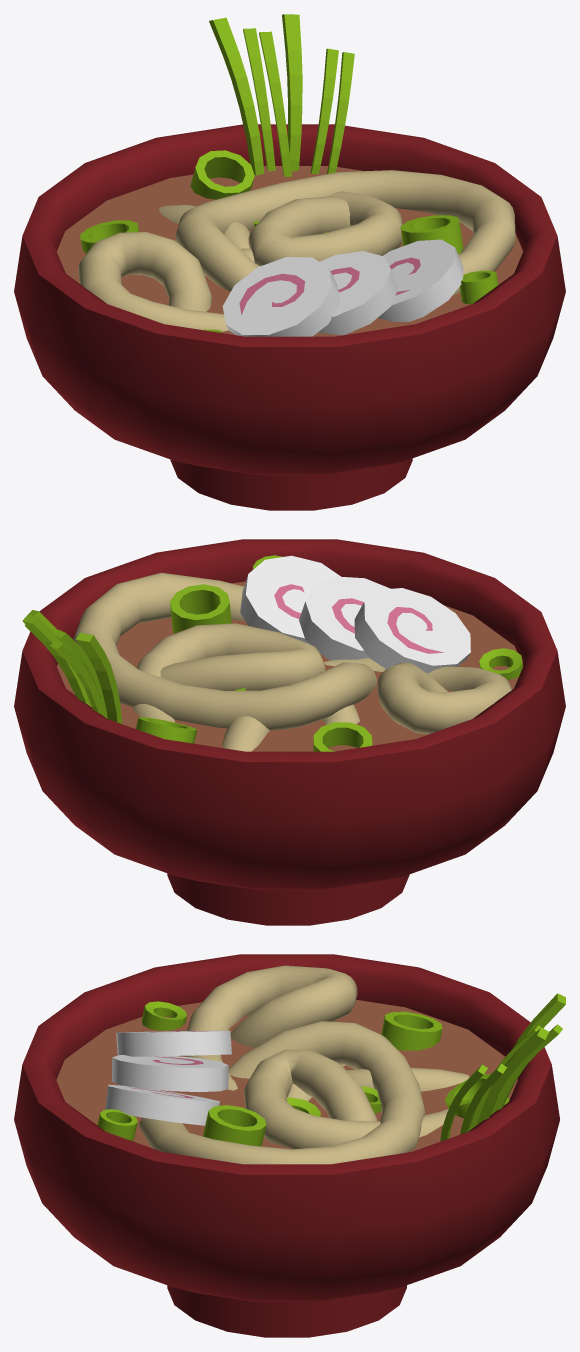
Rendered from Food_Udon.fbx.
3 views of the same model, one above another, from view 1: azimuth 30°, elevation 25°; view 2: azimuth 150°, elevation 25°; view 3: azimuth 270°, elevation 25° (orthographic).
Parts seen in each view (by area): view 1: Food_Udon; view 2: Food_Udon; view 3: Food_Udon.
Part boxes in pixels (x1,y1,x2,y2): Food_Udon: [14, 14, 565, 510]; Food_Udon: [14, 539, 565, 925]; Food_Udon: [14, 954, 565, 1337].
Bounding box in the file's own units: 97.3 × 64.41 × 99.86.
